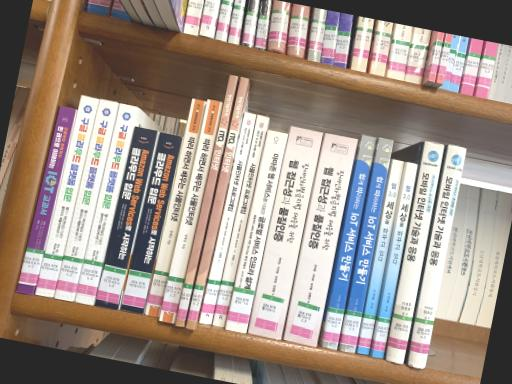book-spine: (247, 125, 323, 339), (174, 74, 237, 328), (186, 77, 247, 330), (285, 133, 357, 347), (159, 99, 222, 323), (145, 99, 207, 318), (385, 141, 444, 365), (407, 145, 466, 369), (35, 95, 100, 298), (53, 99, 117, 302), (224, 130, 288, 333), (198, 112, 256, 325), (75, 104, 136, 306), (212, 116, 269, 328), (94, 127, 159, 310), (321, 135, 376, 350), (15, 105, 76, 295), (340, 138, 393, 353), (120, 132, 182, 314), (370, 162, 417, 359), (357, 159, 403, 356)
